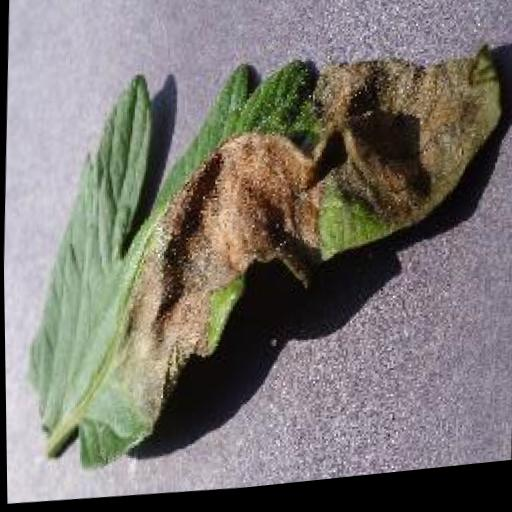Late Blight: (21, 33, 506, 490)
